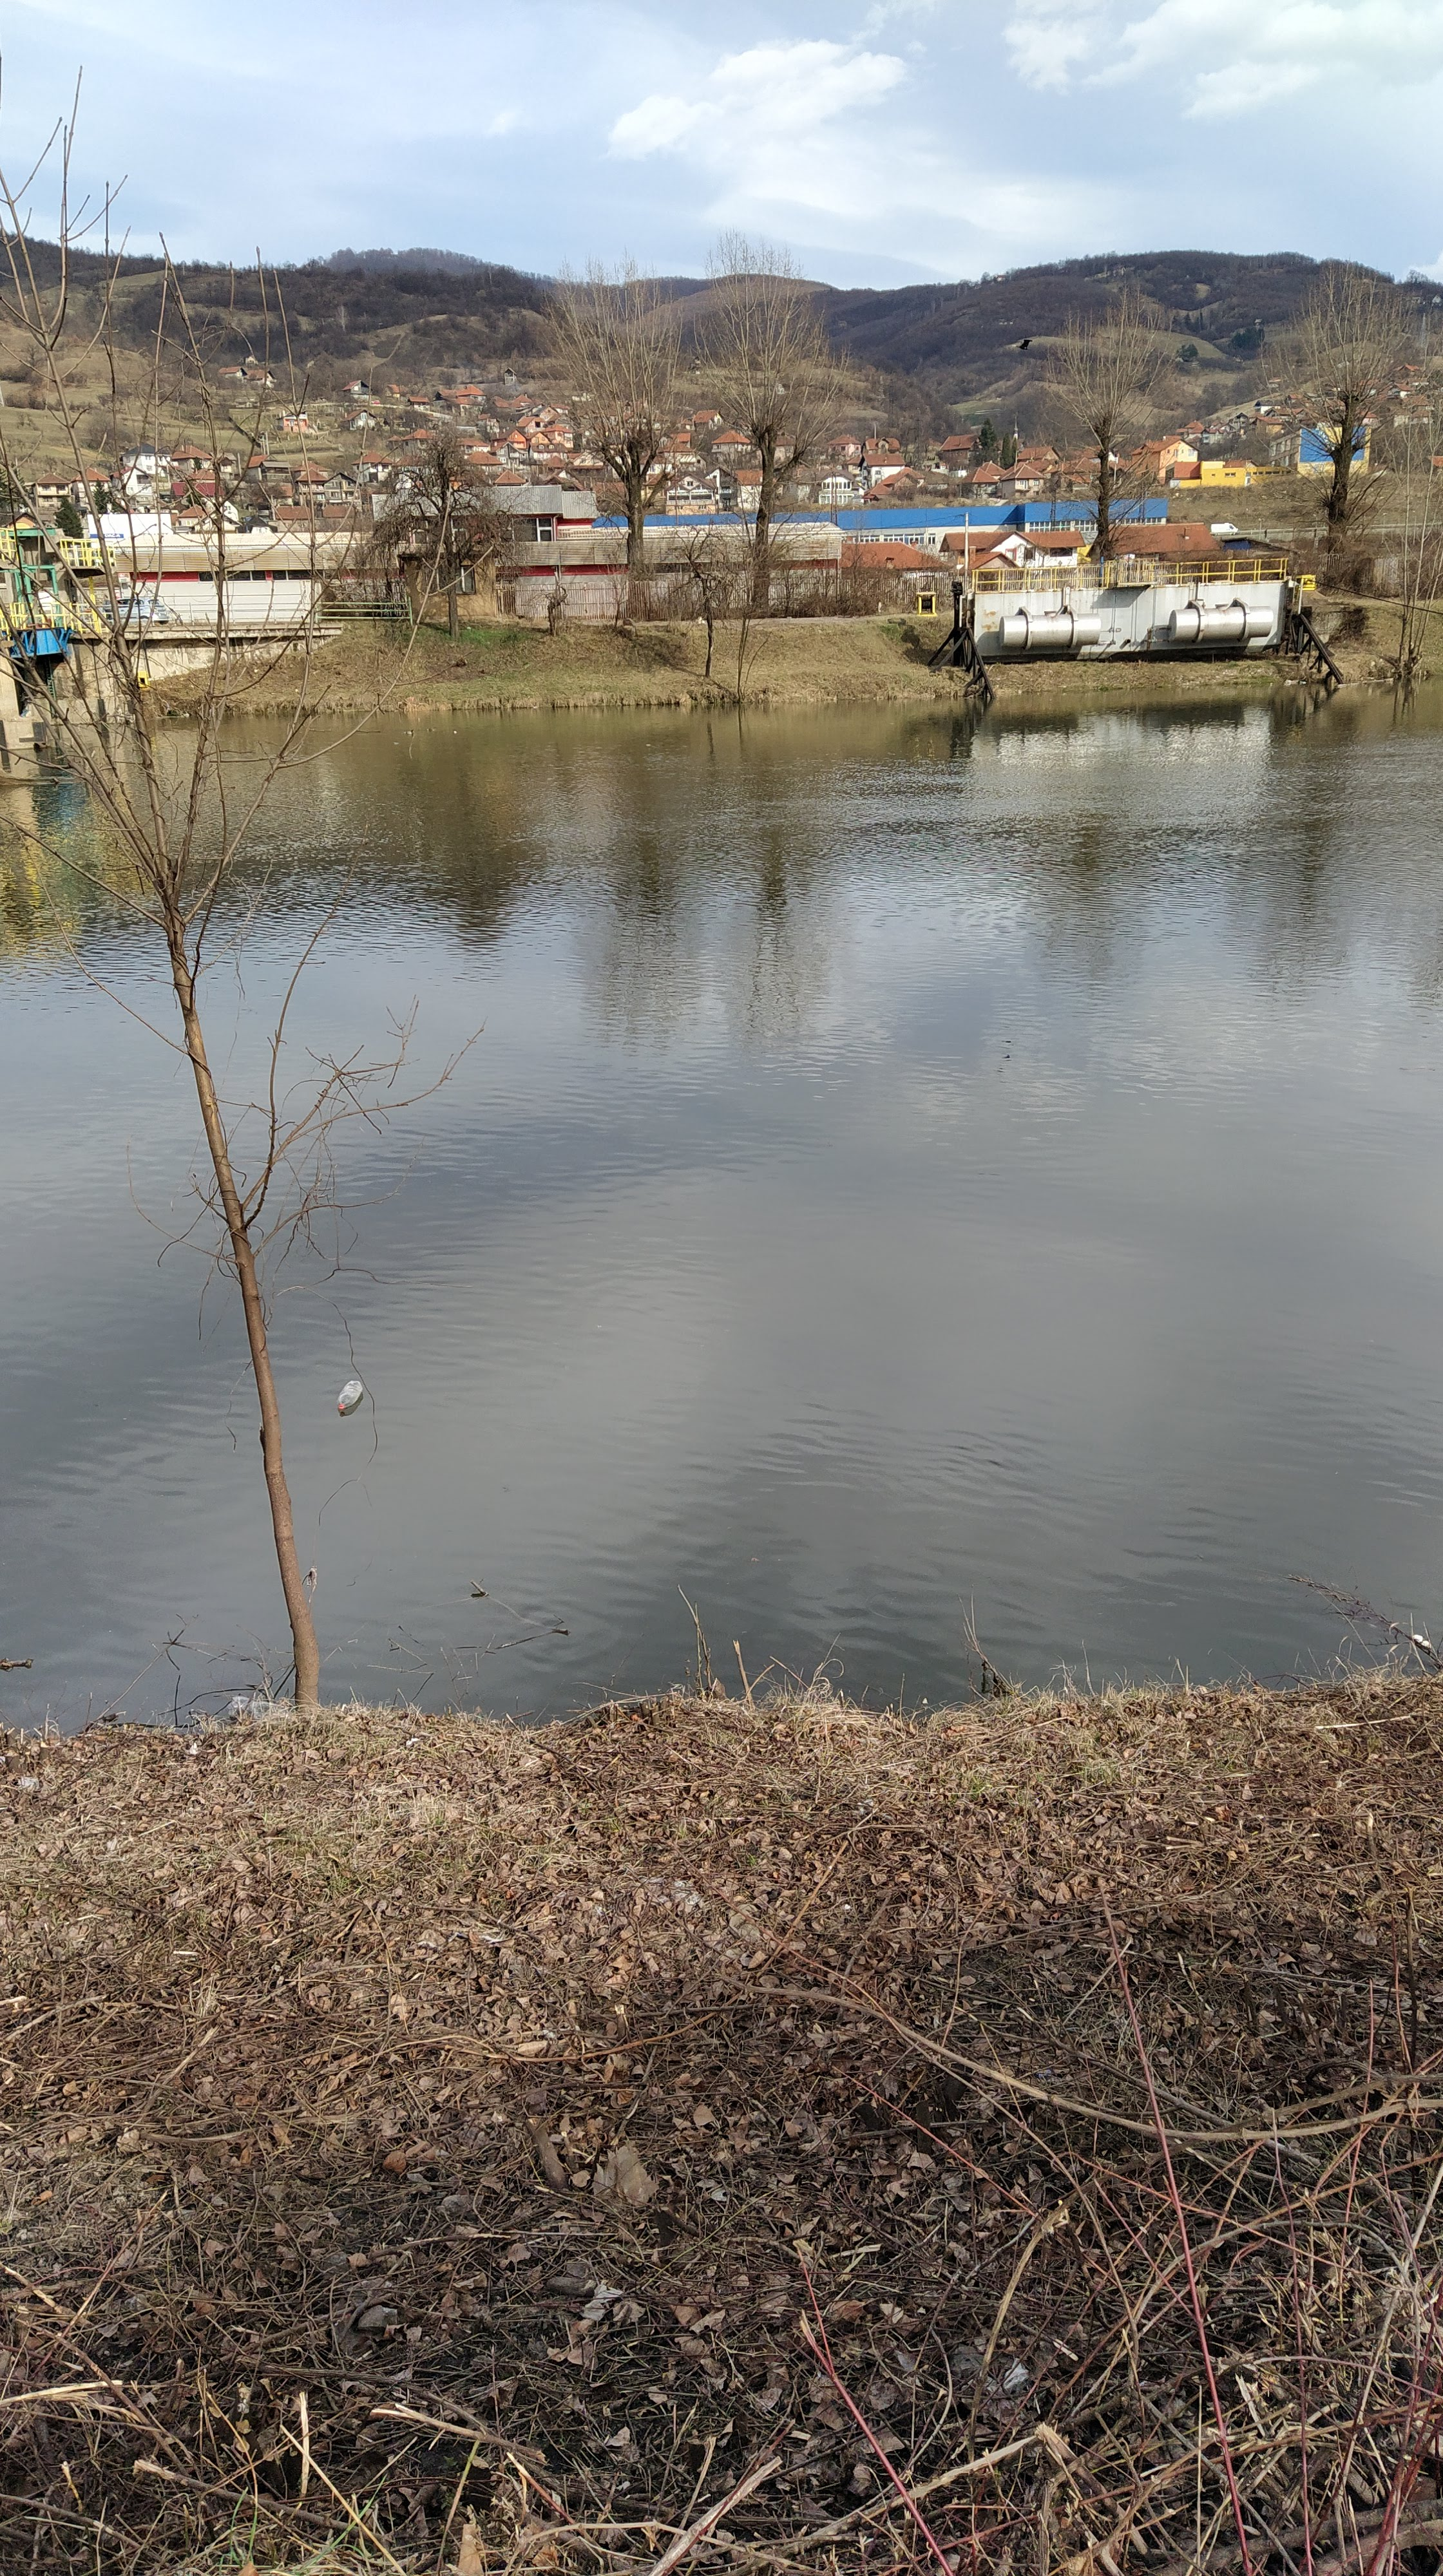Plastic Bottle: (227, 1695, 287, 1720), (336, 1380, 361, 1408)
